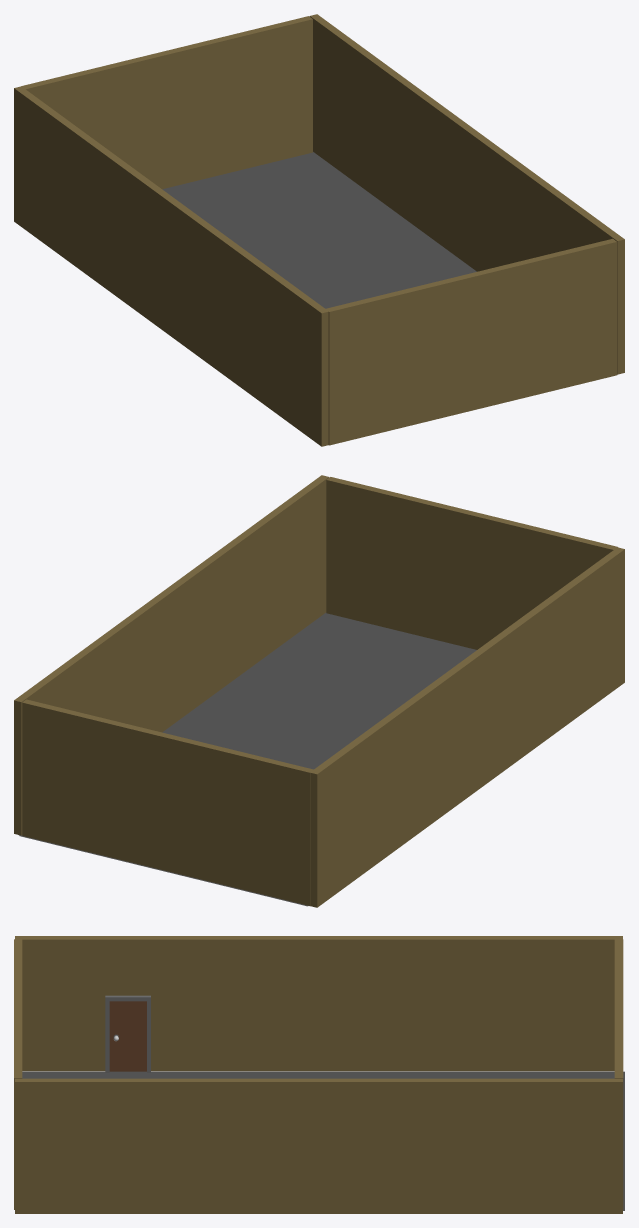
File: Classroom.fbx
3 renders of one model, top to bottom at view 1: azimuth 30°, elevation 25°; view 2: azimuth 150°, elevation 25°; view 3: azimuth 270°, elevation 25°, orthographic.
Parts seen in each view (by area): view 1: pasted__pasted__pCube1 (×2), pasted__pCube1, pasted__pasted__pasted__pCube1, pPlane1; view 2: pasted__pasted__pCube1 (×2), pasted__pasted__pasted__pCube1, pasted__pCube1, pPlane1; view 3: pasted__pCube1, pasted__pasted__pCube1 (×2), pPlane1, pasted__pCube3, pasted__pasted__pasted__pCube1.
Boxes of the visible parts, box(x1,y1,x2,y2) form: pasted__pasted__pCube1 (×2): box(14, 86, 617, 446); pasted__pCube1: box(309, 14, 624, 374); pasted__pasted__pasted__pCube1: box(21, 16, 312, 189); pPlane1: box(162, 152, 476, 308); pasted__pasted__pCube1 (×2): box(310, 477, 624, 907); pasted__pasted__pasted__pCube1: box(22, 699, 313, 905); pasted__pCube1: box(14, 475, 329, 835); pPlane1: box(19, 612, 476, 906); pasted__pCube1: box(15, 1078, 622, 1213); pasted__pasted__pCube1 (×2): box(14, 936, 622, 1209); pPlane1: box(22, 1071, 624, 1210); pasted__pCube3: box(109, 1001, 146, 1071); pasted__pasted__pasted__pCube1: box(614, 939, 623, 1209).
Bounding box in the file's own units: 8.32 × 3.5 × 14.71.
